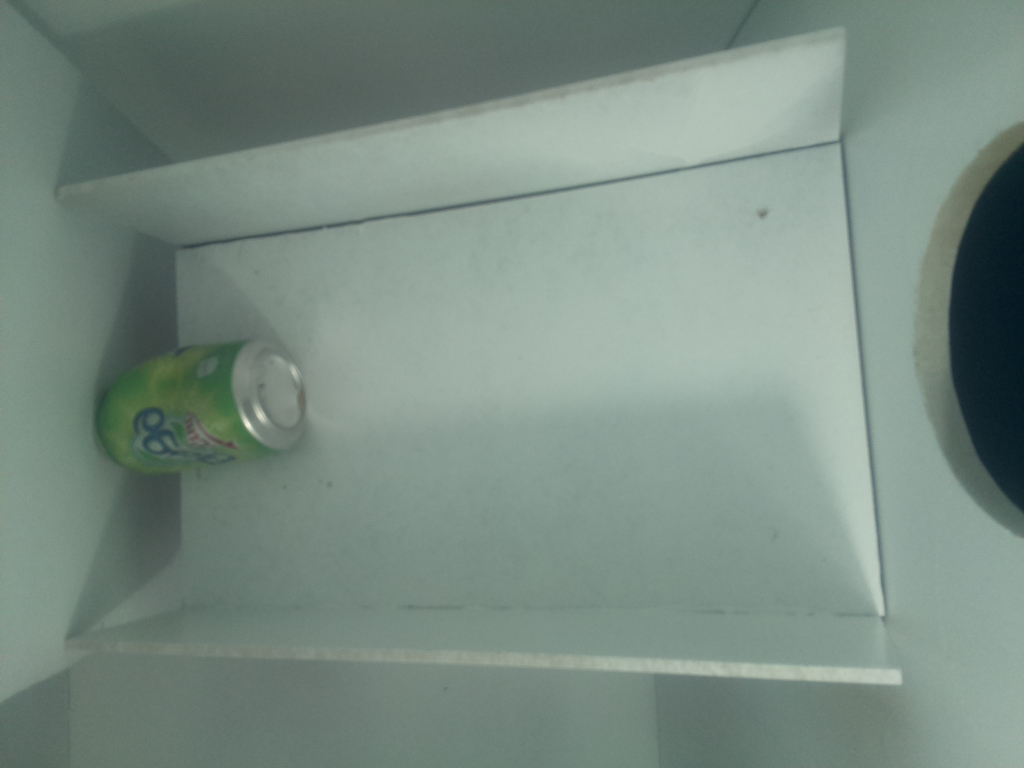kaleng: (97, 342, 312, 468)
